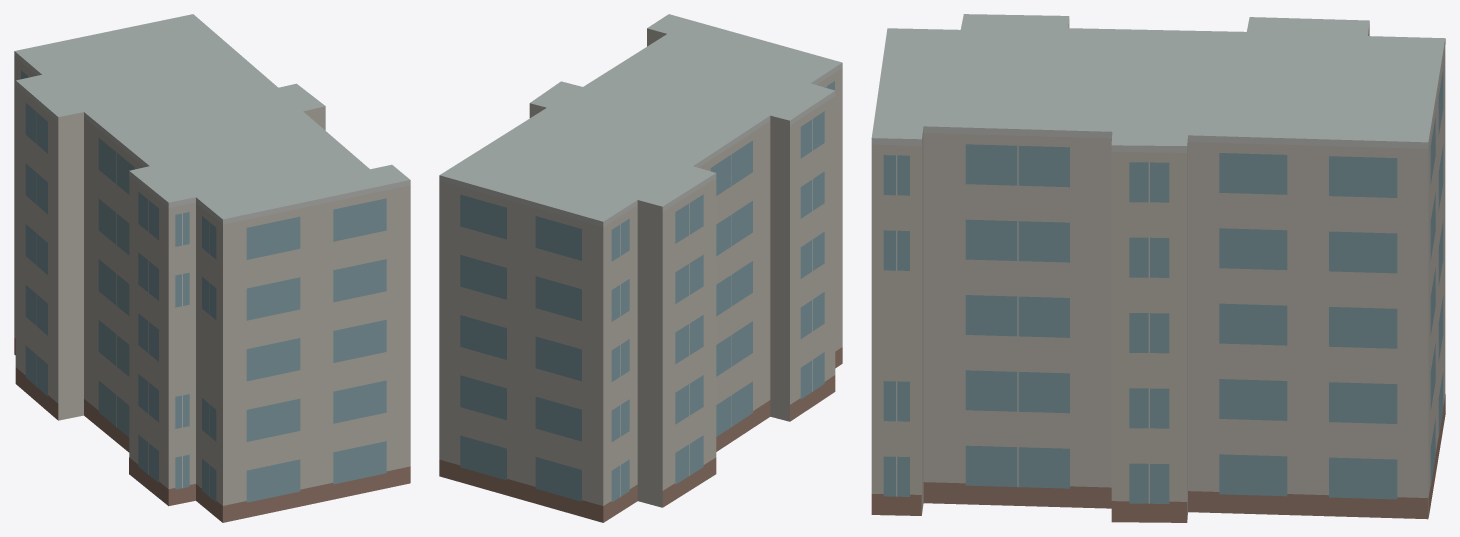
The model's file is survey-upis-32760625.glb.
The picture shows the model from 3 angles, left to right: view 1: azimuth 30°, elevation 25°; view 2: azimuth 150°, elevation 25°; view 3: azimuth 270°, elevation 25°; orthographic projection. The views are drawn at different scales.
Parts seen in each view (by area): view 1: survey-upis-32760625.tmp; view 2: survey-upis-32760625.tmp; view 3: survey-upis-32760625.tmp.
Part boxes in pixels (x1,y1,x2,y2): survey-upis-32760625.tmp: (14,14,410,522); survey-upis-32760625.tmp: (439,14,842,522); survey-upis-32760625.tmp: (871,14,1445,522).
Size of the model in its own units: 10.61 by 14.1 by 19.47.
